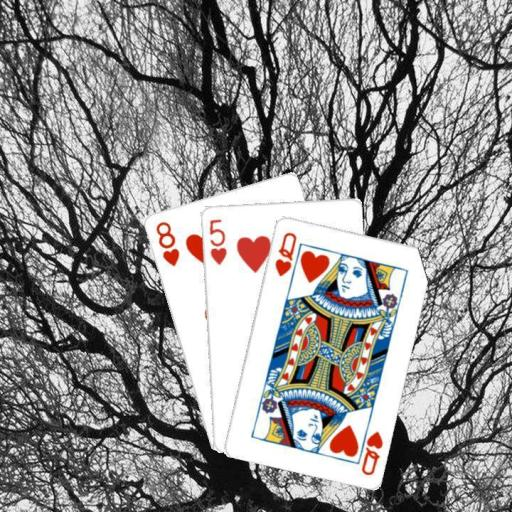card-corner: (353, 419, 384, 476), (152, 218, 181, 268), (271, 228, 298, 278), (206, 215, 228, 266)
